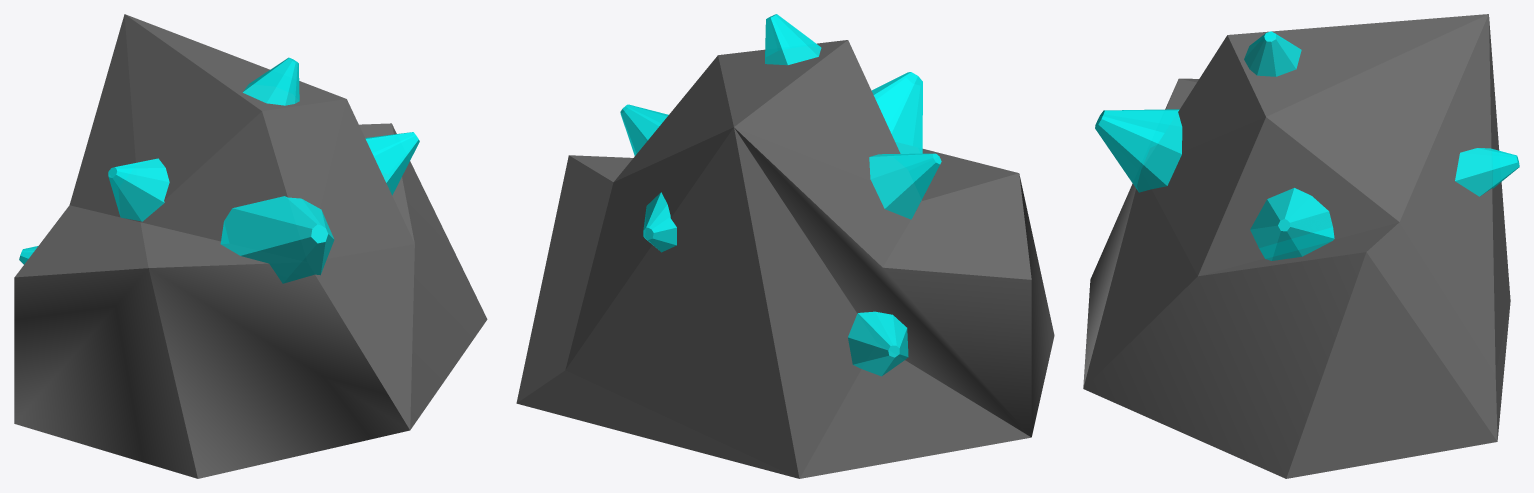
Rendered from Ore_Node_03.fbx.
3 views of the same model, side by side, from view 1: azimuth 30°, elevation 25°; view 2: azimuth 150°, elevation 25°; view 3: azimuth 270°, elevation 25° (orthographic). The views are drawn at different scales.
Parts seen in each view (by area): view 1: Model; view 2: Model; view 3: Model.
Boxes of the visible parts, <box> form: Model: <box>14,14,487,478</box>; Model: <box>516,14,1054,478</box>; Model: <box>1083,14,1519,478</box>.
Size of the model in its own units: 244 by 186 by 186.
